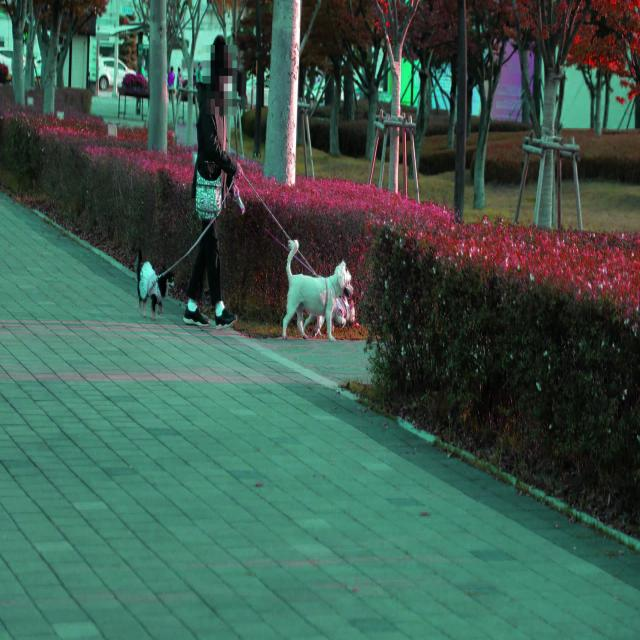Leashed_Dog: (208, 162, 356, 343), (137, 166, 240, 322)
